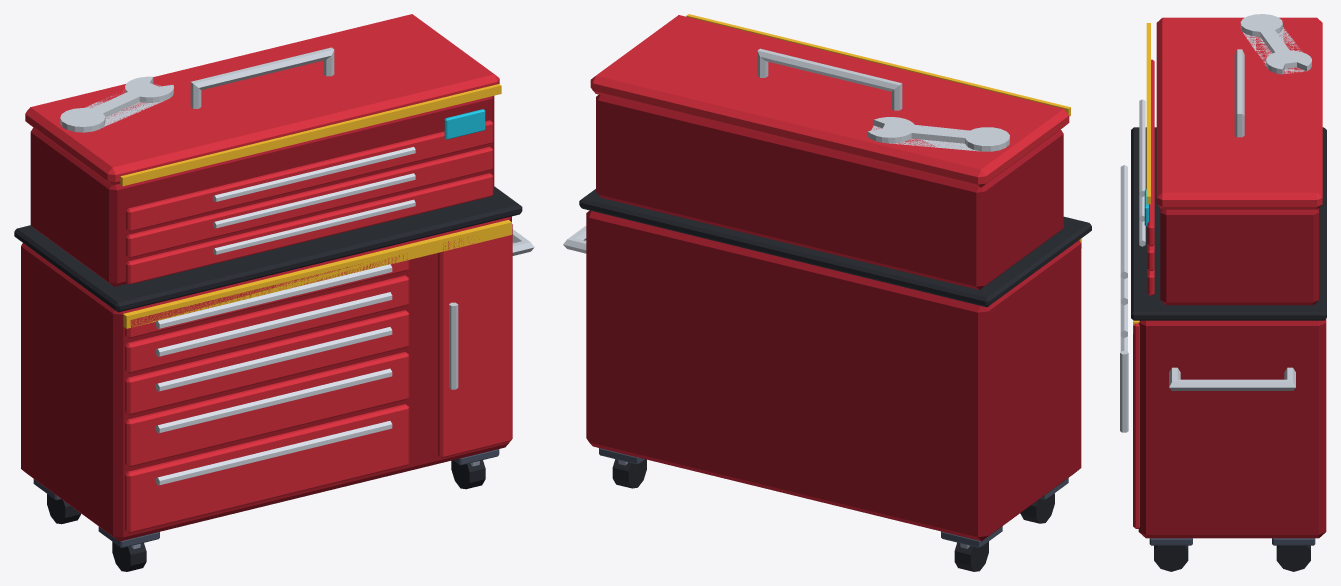
File: ToolChest.fbx
3 views of the same model, side by side, from view 1: azimuth 30°, elevation 25°; view 2: azimuth 150°, elevation 25°; view 3: azimuth 270°, elevation 25° (orthographic). The views are drawn at different scales.
Parts seen in each view (by area): view 1: ToolChest; view 2: ToolChest; view 3: ToolChest.
Boxes of the visible parts, left/top/right/bottom form: ToolChest: left=14, top=14, right=534, bottom=571; ToolChest: left=563, top=14, right=1091, bottom=571; ToolChest: left=1120, top=14, right=1326, bottom=571.
Size of the model in its own units: 6.59 by 6.26 by 2.87.
Materials: 1 (1 with a texture image).
